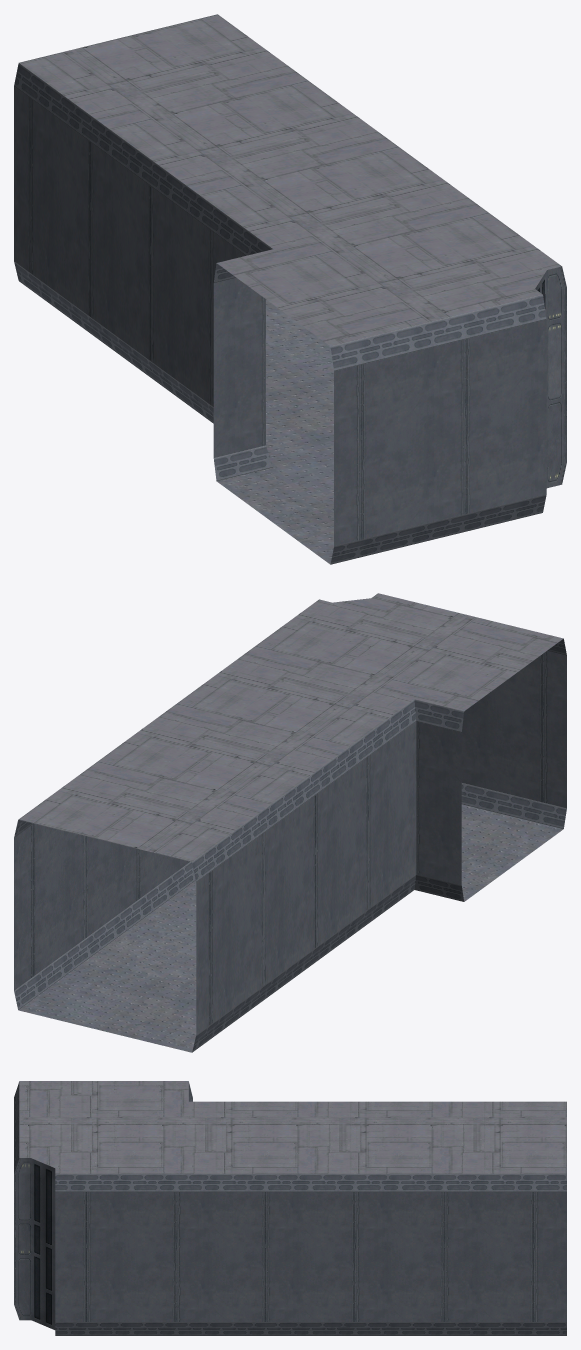
Rendered from mun_corl_starport_s01_u01_r3_foyer3_mesh_r3.fbx.
3 views of the same model, one above another, from view 1: azimuth 30°, elevation 25°; view 2: azimuth 150°, elevation 25°; view 3: azimuth 270°, elevation 25° (orthographic). The views are drawn at different scales.
Visible parts, largest first — view 1: mesh_node; view 2: mesh_node; view 3: mesh_node.
Part boxes in pixels (box(x1,y1,x2,y2)): mesh_node: box(14, 14, 566, 564); mesh_node: box(14, 593, 566, 1052); mesh_node: box(14, 1081, 566, 1335).
Size of the model in its own units: 5 by 4 by 12.37.
